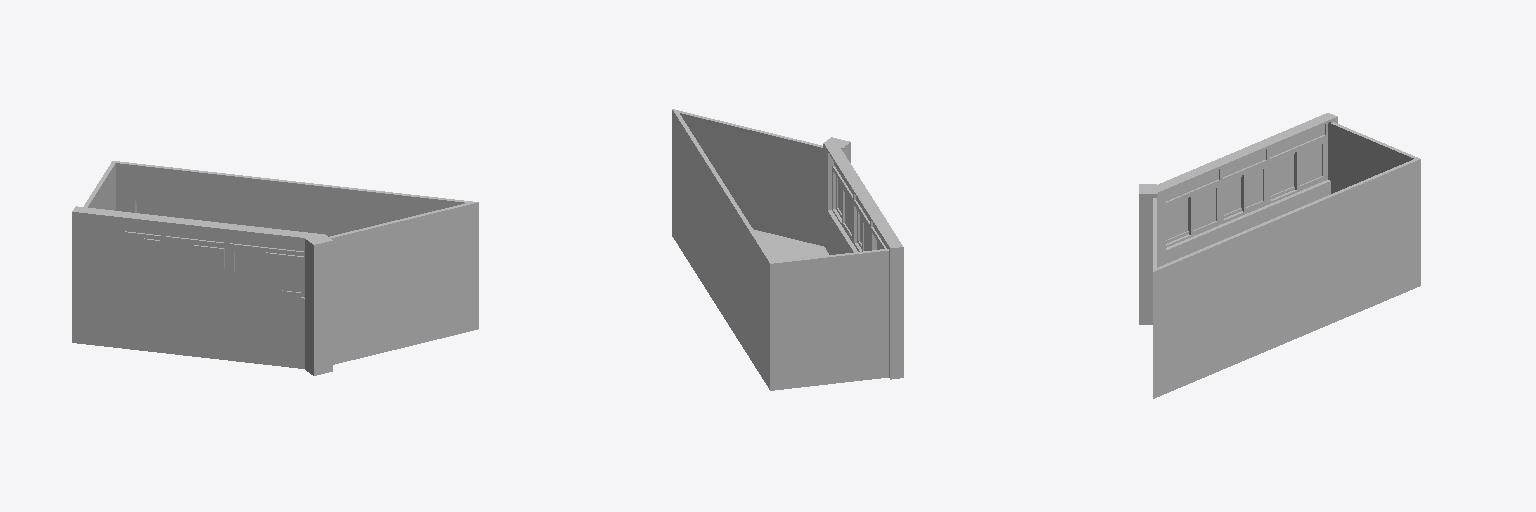
3 views of the same model, side by side, from view 1: azimuth 30°, elevation 25°; view 2: azimuth 150°, elevation 25°; view 3: azimuth 270°, elevation 25° (orthographic).
Visible parts, largest first — view 1: Mesh32 Group15 Model, Mesh2 Group2 Model, Mesh1 Group1 Model, Mesh4 Group4 Model, Mesh23 Glazing7 Window_Sliding_Casement_4_3 Window_Sliding_2_2 G, Mesh3 Group3 Model, Mesh10 Group14 Group12 Group5 Model, Mesh20 Glazing5 Window_Sliding_Casement_4_2 Window_Sliding_2_2 G, Mesh6 Group8 Group6 Group5 Model, Mesh8 Group11 Group9 Group5 Model; view 2: Mesh32 Group15 Model, Mesh3 Group3 Model, Mesh1 Group1 Model, Mesh2 Group2 Model; view 3: Mesh32 Group15 Model, Mesh1 Group1 Model, Mesh2 Group2 Model, Mesh3 Group3 Model, Mesh4 Group4 Model, Mesh15 Glazing2 Window_Sliding_Casement_4_1 Window_Sliding_2_1 G, Mesh12 Glazing Window_Sliding_Casement_4 Window_Sliding_2_1 Grou, Mesh19 Glazing4 Window_Sliding_Casement_4_2 Window_Sliding_2_2 G, Mesh22 Glazing6 Window_Sliding_Casement_4_3 Window_Sliding_2_2 G, Mesh8 Group11 Group9 Group5 Model, Mesh10 Group14 Group12 Group5 Model.
Boxes of the visible parts, box(x1,y1,x2,y2) form: Mesh32 Group15 Model: box(111, 161, 478, 335); Mesh2 Group2 Model: box(72, 206, 327, 375); Mesh1 Group1 Model: box(333, 301, 478, 364); Mesh4 Group4 Model: box(305, 234, 332, 375); Mesh23 Glazing7 Window_Sliding_Casement_4_3 Window_Sliding_2_2 G: box(269, 256, 301, 292); Mesh3 Group3 Model: box(84, 163, 115, 210); Mesh10 Group14 Group12 Group5 Model: box(230, 232, 304, 251); Mesh20 Glazing5 Window_Sliding_Casement_4_2 Window_Sliding_2_2 G: box(235, 251, 265, 283); Mesh6 Group8 Group6 Group5 Model: box(166, 225, 224, 242); Mesh8 Group11 Group9 Group5 Model: box(85, 215, 160, 234); Mesh32 Group15 Model: box(672, 109, 826, 361); Mesh3 Group3 Model: box(774, 249, 888, 361); Mesh1 Group1 Model: box(672, 208, 888, 390); Mesh2 Group2 Model: box(824, 139, 903, 379); Mesh32 Group15 Model: box(1153, 158, 1420, 369); Mesh1 Group1 Model: box(1153, 258, 1420, 398); Mesh2 Group2 Model: box(1157, 113, 1337, 267); Mesh3 Group3 Model: box(1331, 122, 1417, 193); Mesh4 Group4 Model: box(1139, 184, 1156, 324); Mesh15 Glazing2 Window_Sliding_Casement_4_1 Window_Sliding_2_1 G: box(1271, 154, 1293, 195); Mesh12 Glazing Window_Sliding_Casement_4 Window_Sliding_2_1 Grou: box(1299, 144, 1321, 185); Mesh19 Glazing4 Window_Sliding_Casement_4_2 Window_Sliding_2_2 G: box(1193, 189, 1215, 229); Mesh22 Glazing6 Window_Sliding_Casement_4_3 Window_Sliding_2_2 G: box(1166, 199, 1187, 239); Mesh8 Group11 Group9 Group5 Model: box(1270, 124, 1324, 156); Mesh10 Group14 Group12 Group5 Model: box(1166, 169, 1218, 200).
Size of the model in its own units: 8.15 by 3.2 by 6.24.